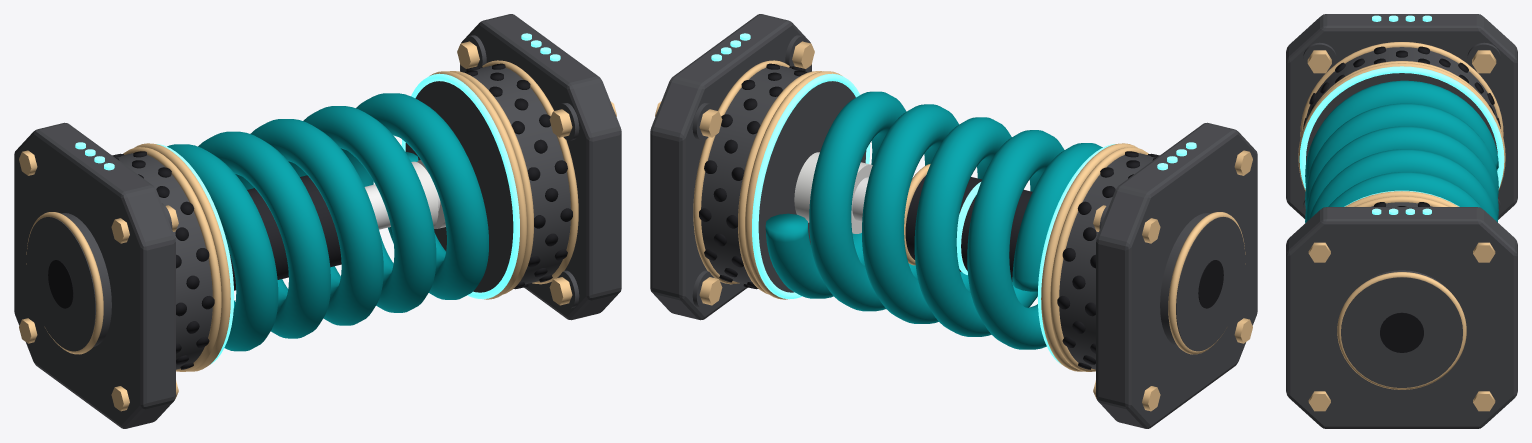
File: sport_suspension_4.glb
The picture shows the model from 3 angles, left to right: view 1: azimuth 30°, elevation 25°; view 2: azimuth 150°, elevation 25°; view 3: azimuth 270°, elevation 25°; orthographic projection. The views are drawn at different scales.
Visible parts, largest first — view 1: mountFlex, Stator, mount; view 2: mountFlex, Stator, mount; view 3: mount, Stator, mountFlex.
Part boxes in pixels (bbox=[...]): mountFlex: bbox=[167, 93, 488, 351]; Stator: bbox=[14, 122, 234, 428]; mount: bbox=[401, 14, 621, 320]; mountFlex: bbox=[765, 91, 1102, 349]; Stator: bbox=[1037, 122, 1257, 428]; mount: bbox=[650, 14, 870, 320]; mount: bbox=[1286, 190, 1517, 428]; Stator: bbox=[1286, 14, 1517, 219]; mountFlex: bbox=[1305, 80, 1498, 222].
Size of the model in its own units: 0.501 by 0.2225 by 0.22.
